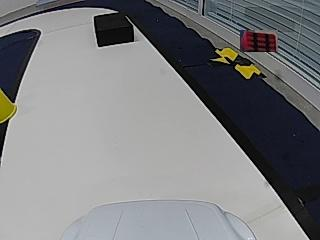block: (93, 12, 134, 47)
cone: (0, 84, 19, 123)
